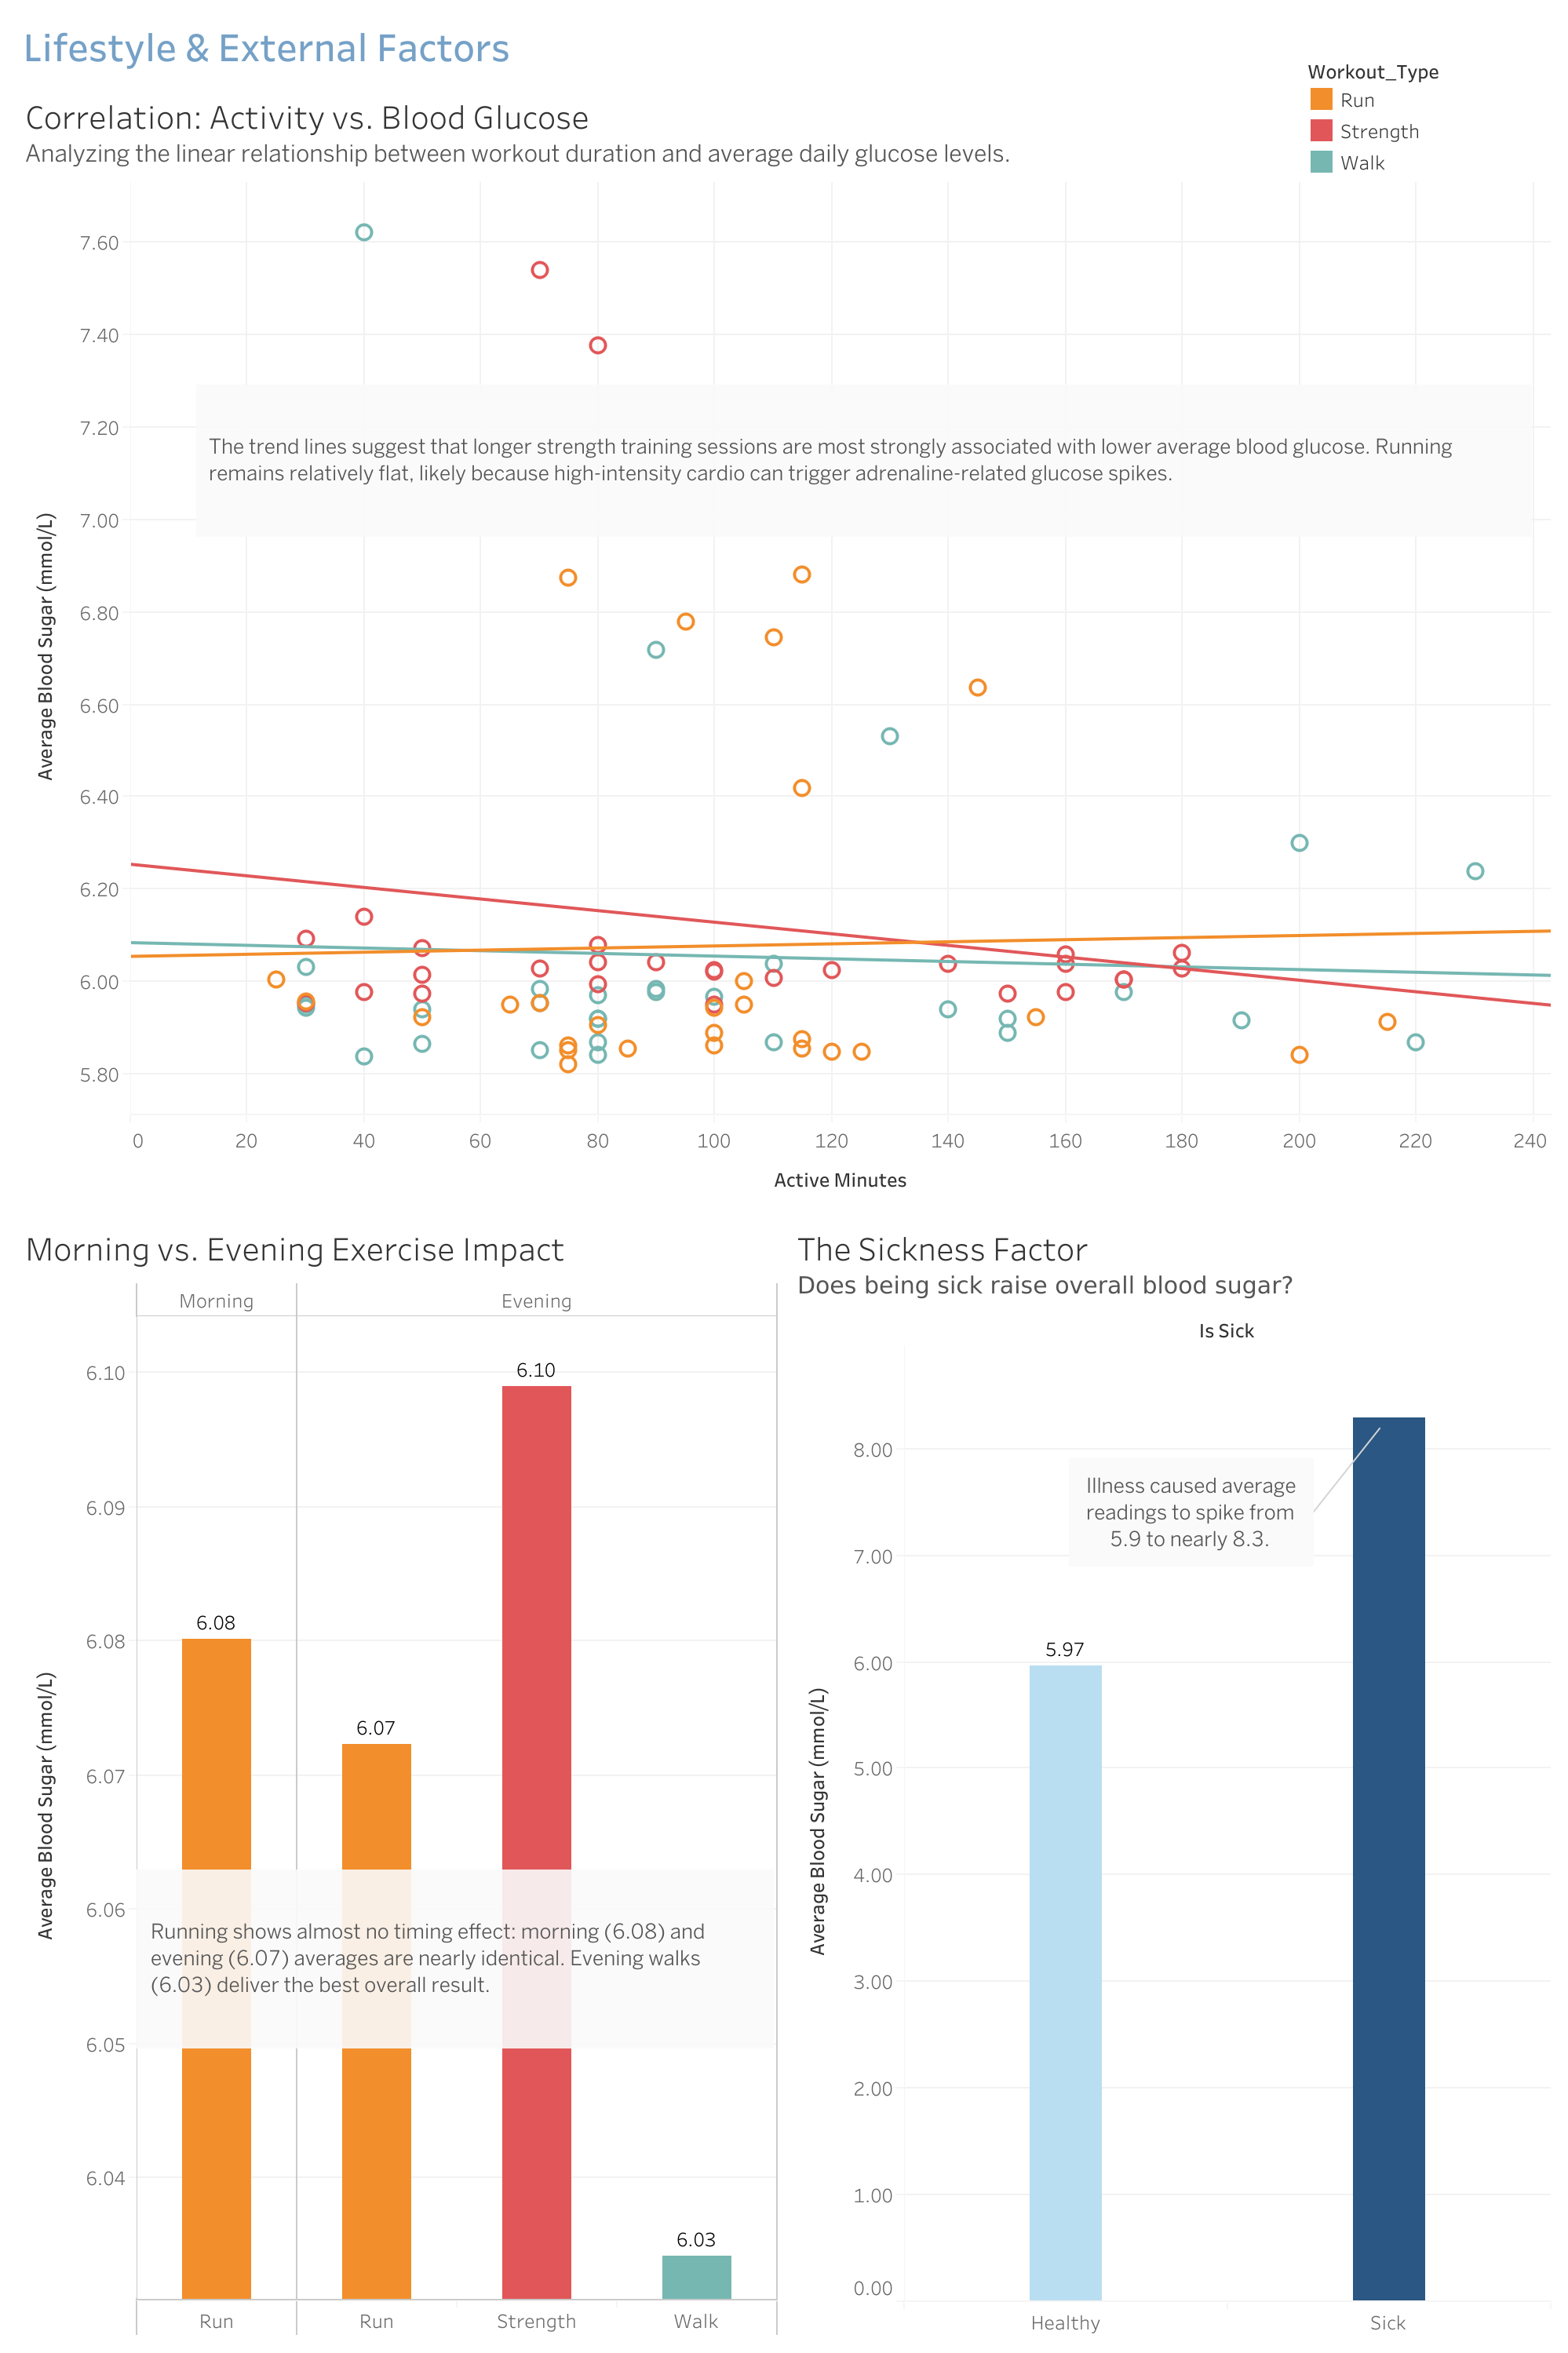

This screenshot's page, from the dashboard's own definition file:
{"tool":"tableau","page":{"name":"Lifestyle & External Factors","canvas":[1000,1500],"ordinal":0},"visuals":[{"type":"title","box":[8,8,984,41]},{"type":"legend","title":"Correlation: Activity vs. Blood Glucose","param":"[federated.0s09aax0c1b79o10soiaw1v82j25].[none:Workout_Type:nk]","box":[832.2,33.8,140,146.2]},{"type":"worksheet","title":"Correlation: Activity vs. Blood Glucose","mark":"Automatic","rows":["Blood_Sugar"],"cols":["Active_Minutes"],"box":[8,49,984,721.5]},{"type":"worksheet","title":"Morning vs. Evening Exercise Impact","mark":"Automatic","rows":["Blood_Sugar"],"cols":["Calculation_0929070233092097","Workout_Type"],"box":[8,770.5,492,721.5]},{"type":"worksheet","title":"The Sickness Factor","mark":"Bar","rows":["Blood_Sugar"],"cols":["Is_Sick"],"box":[500,770.5,492,721.5]}]}

Visuals, with their boxes in screenshot pixels (x1, y1, x2, y2), scaled from the page's 1000x1500 canvas onto the 1568x2353 screenshot:
title: box=[13, 13, 1555, 77]
"Correlation: Activity vs. Blood Glucose" legend: box=[1305, 53, 1524, 283]
"Correlation: Activity vs. Blood Glucose" worksheet: box=[13, 77, 1555, 1209]
"Morning vs. Evening Exercise Impact" worksheet: box=[13, 1209, 784, 2340]
"The Sickness Factor" worksheet (Bar marks): box=[784, 1209, 1555, 2340]
